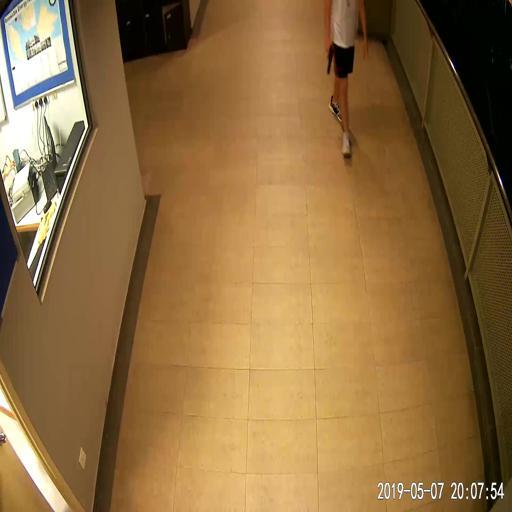Handgun: (322, 38, 332, 74)
